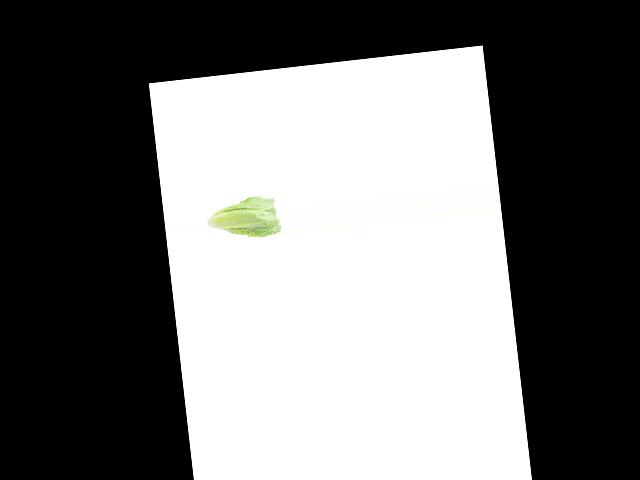lettuce: (205, 188, 282, 245)
